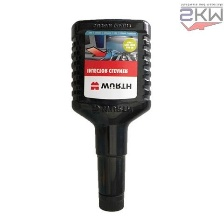cleaning_solution: (66, 16, 155, 216)
